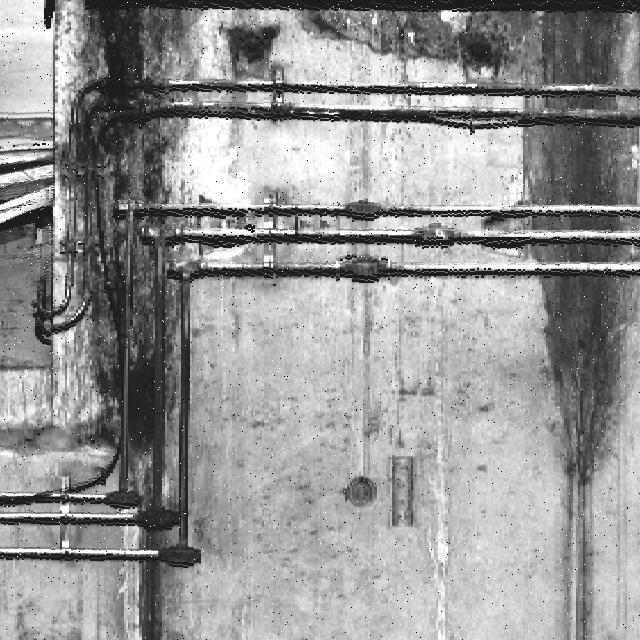leakage: (65, 5, 203, 633), (517, 1, 639, 495), (295, 1, 515, 78), (1, 384, 53, 473)
